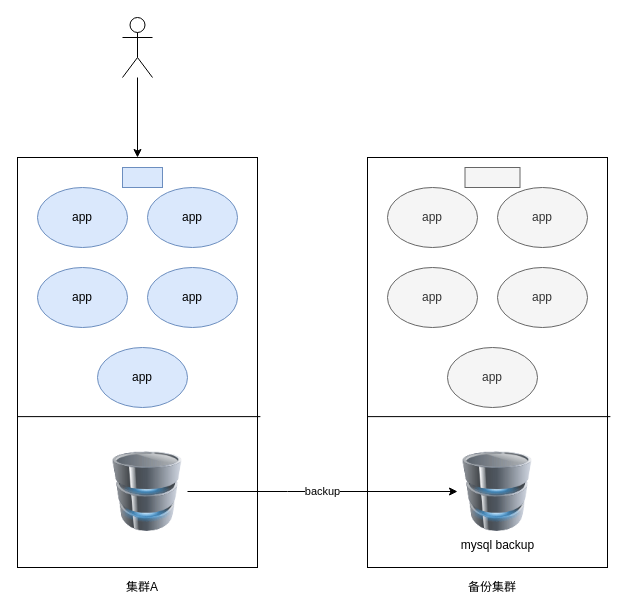
This 629x615 diagram has some shape labels left out. Each missing label, with the centre of its shape:
active: (x=142, y=177)
Actor: (x=137, y=47)
inactive: (x=492, y=177)
mysql: (x=147, y=491)
